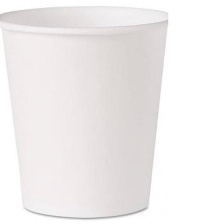paper_cup: (0, 0, 168, 224)
